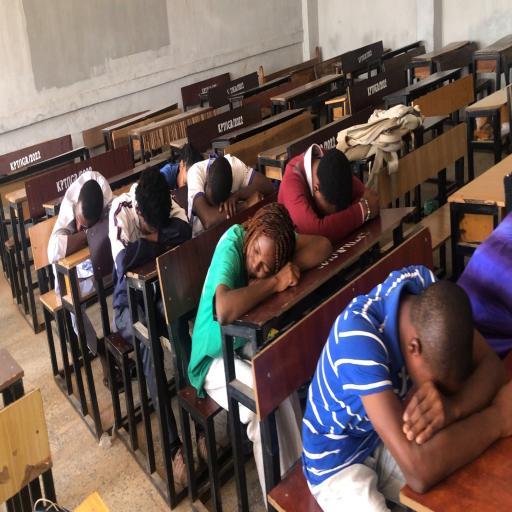Sleeping: (300, 205, 512, 507), (212, 210, 382, 414), (187, 199, 298, 396), (110, 165, 192, 343), (46, 170, 114, 280), (190, 153, 276, 236)
